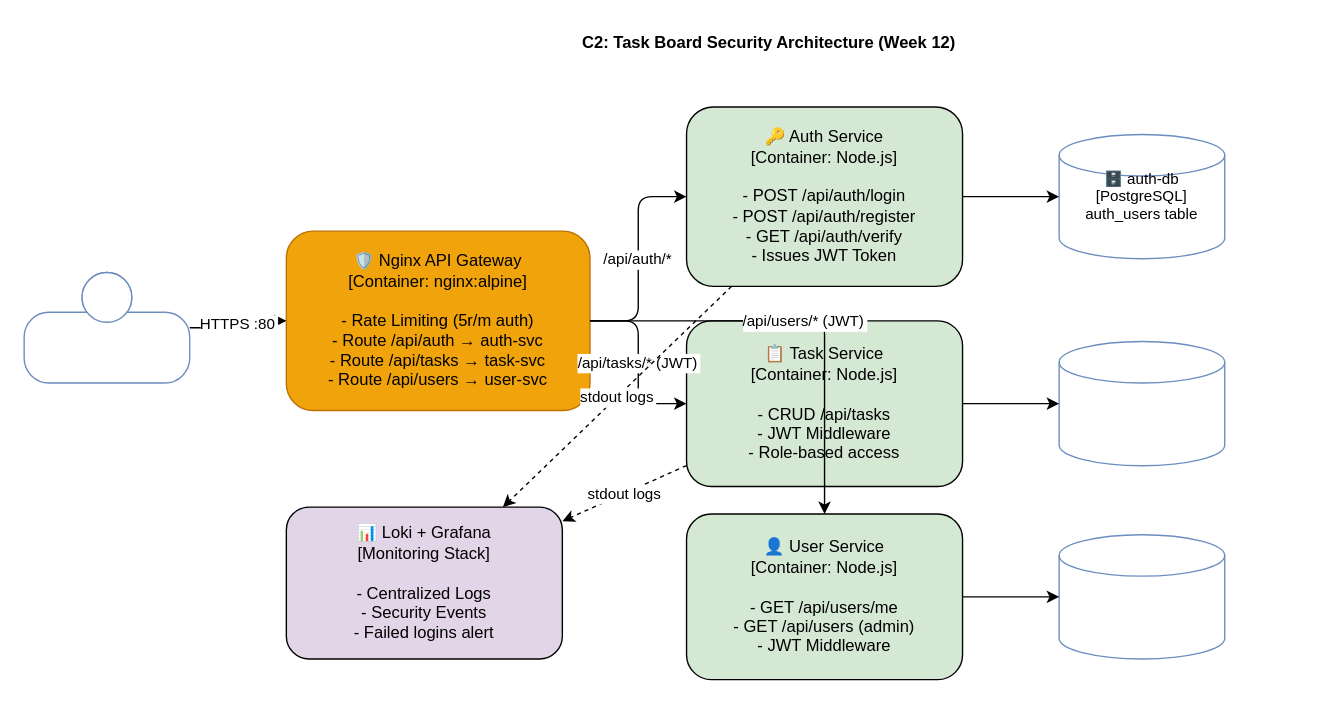
Image size: 1318x704. Some labels were removed from this diagram. The shapes that lost their labels are listed below. From the top down, each one's box as (x1, y1, x2, y2) in pixels, then its label:
(23, 271, 190, 383): 🌐 Browser / User
(1058, 340, 1225, 466): 🗄️ task-db [PostgreSQL] tasks table
(1058, 533, 1225, 659): 🗄️ user-db [PostgreSQL] user_profiles table
